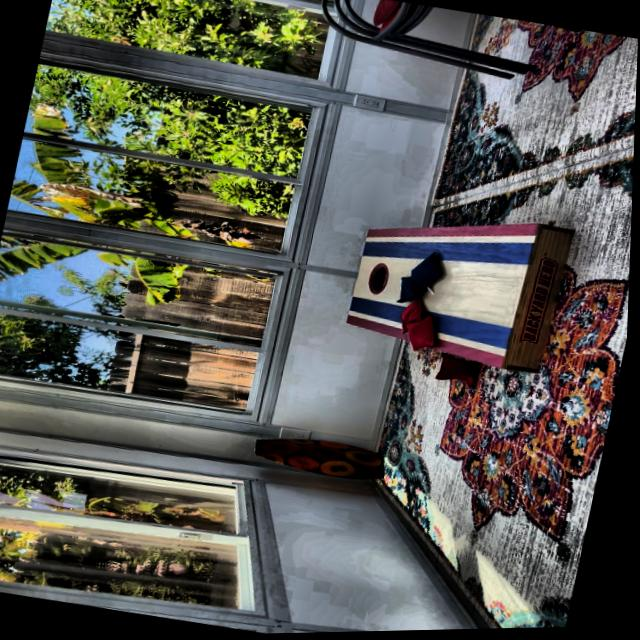blue-bean-bag: (408, 249, 447, 297), (397, 272, 427, 307)
board: (347, 215, 531, 360)
hole: (367, 262, 393, 297)
red-bean-bag: (436, 353, 484, 391), (404, 312, 443, 356), (398, 295, 430, 338)
